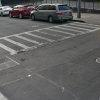Crosswalk: (2, 23, 94, 58)
